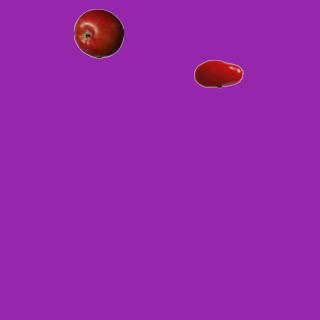Apple Braeburn: (73, 8, 123, 58)
Tomato 2: (193, 48, 243, 98)
